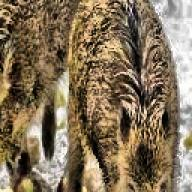boar: (58, 0, 192, 192), (0, 0, 96, 192)
